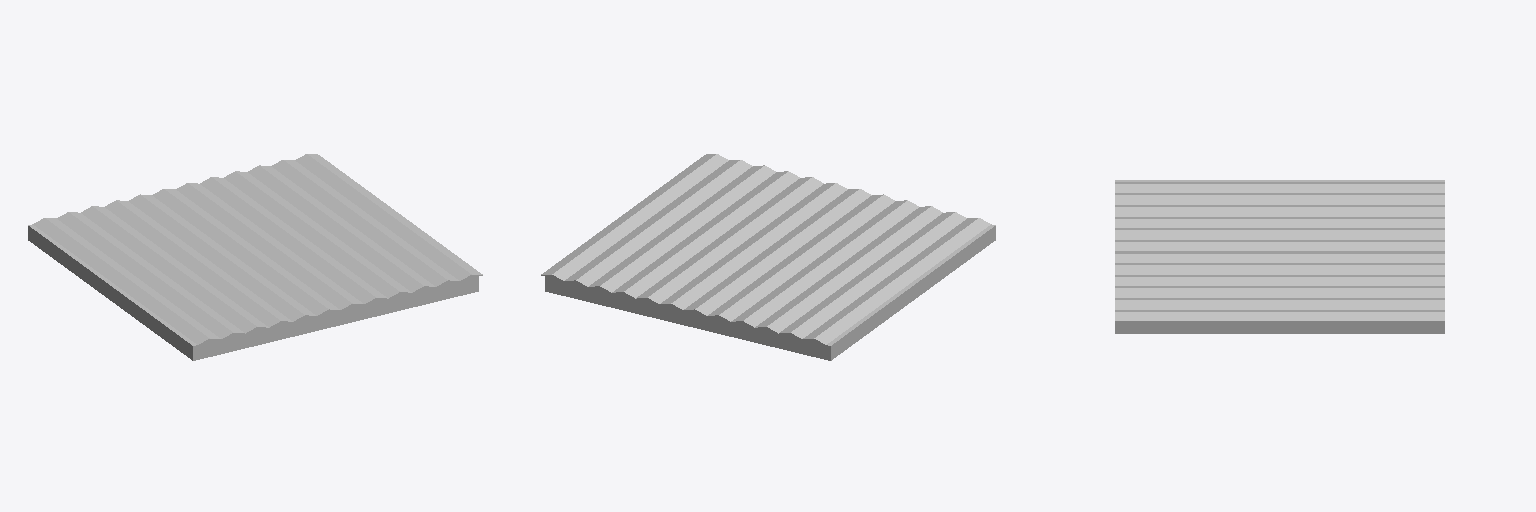
File: terrain5.obj
3 views of the same model, side by side, from view 1: azimuth 30°, elevation 25°; view 2: azimuth 150°, elevation 25°; view 3: azimuth 270°, elevation 25° (orthographic).
Parts seen in each view (by area): view 1: Cylinder.001, Cube; view 2: Cylinder.001, Cube; view 3: Cylinder.001, Cube.
Boxes of the visible parts, <box> form: Cylinder.001: <box>33,154,482,344</box>; Cube: <box>28,224,478,360</box>; Cylinder.001: <box>541,154,990,344</box>; Cube: <box>545,224,995,360</box>; Cylinder.001: <box>1115,182,1444,320</box>; Cube: <box>1115,180,1444,333</box>.
Size of the model in its own units: 2.03 by 0.125 by 2.